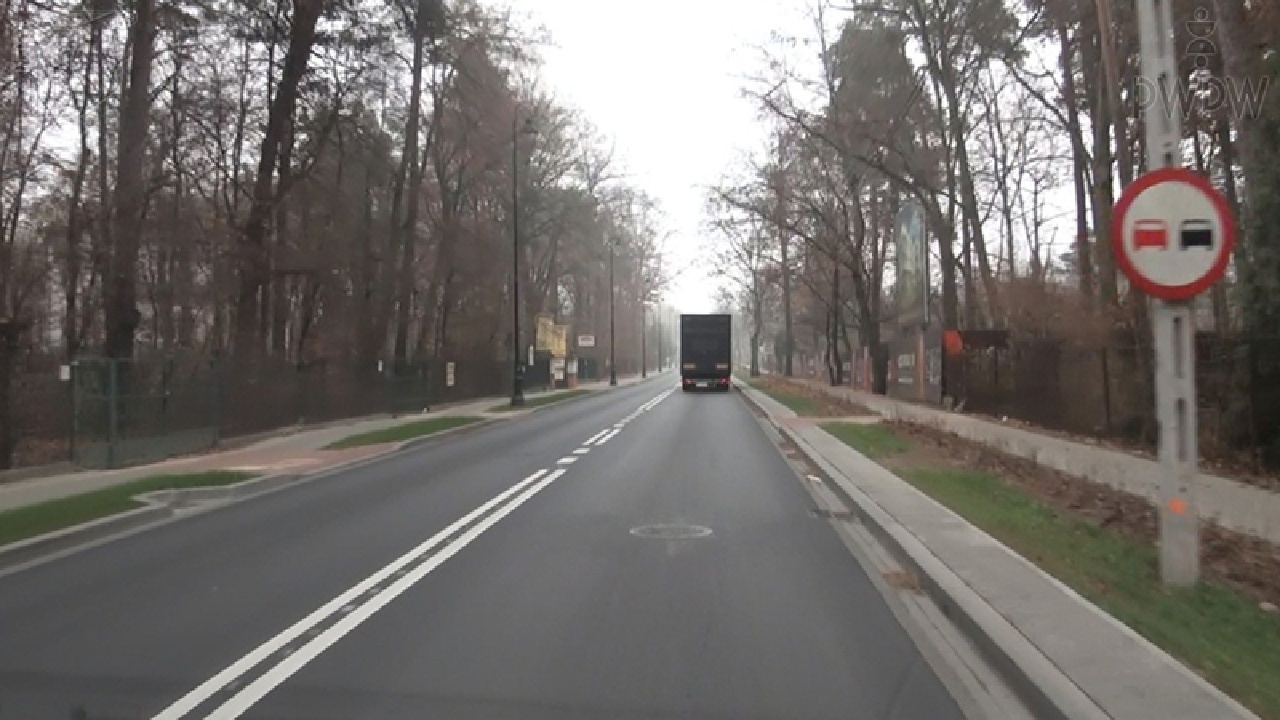B25: (1110, 167, 1234, 298)
